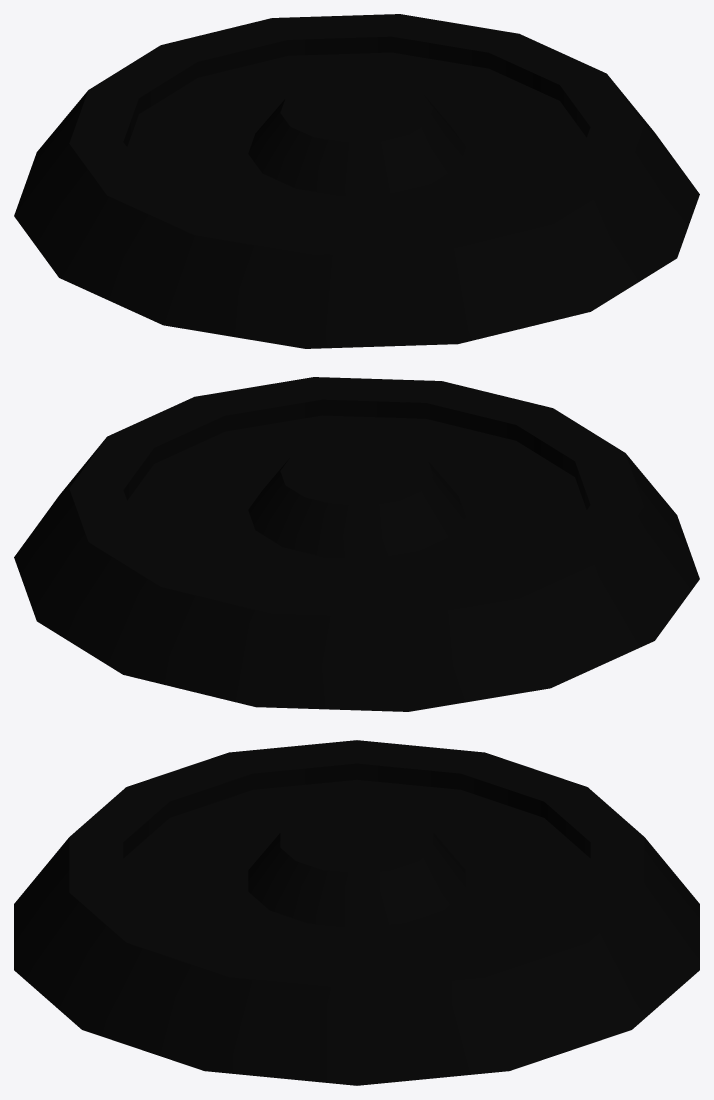
The model's file is Sach_Tele.fbx.
3 renders of one model, top to bottom at view 1: azimuth 30°, elevation 25°; view 2: azimuth 150°, elevation 25°; view 3: azimuth 270°, elevation 25°, orthographic. The views are drawn at different scales.
Parts seen in each view (by area): view 1: Tele; view 2: Tele; view 3: Tele.
Part boxes in pixels (x1,y1,x2,y2): Tele: [14, 14, 699, 348]; Tele: [14, 377, 699, 711]; Tele: [14, 740, 699, 1085].
Bounding box in the file's own units: 13.34 × 2.03 × 13.01.
